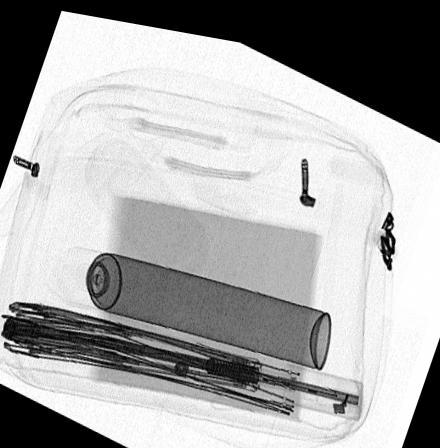Sprayer: (57, 241, 331, 357)
